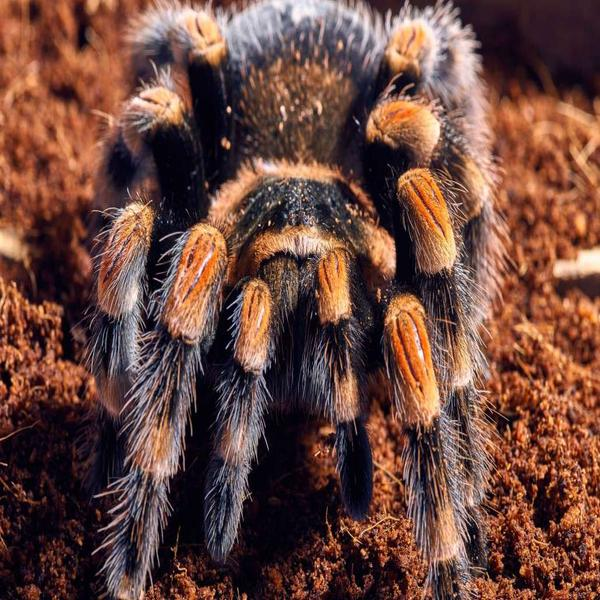Tarantula Spider: (94, 5, 503, 600)
